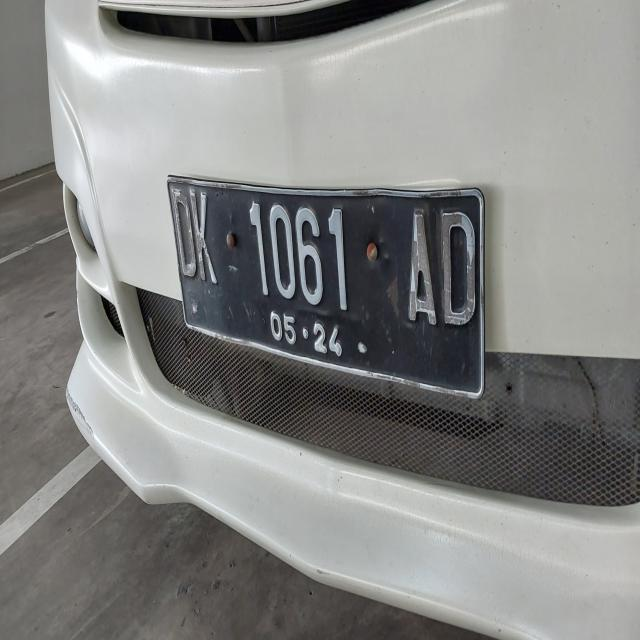0: (264, 185, 301, 312)
1: (321, 185, 362, 332), (242, 185, 272, 312)
6: (290, 188, 330, 318)
A: (396, 198, 446, 342)
D: (432, 184, 484, 342), (161, 170, 199, 290)
K: (186, 172, 224, 290)
